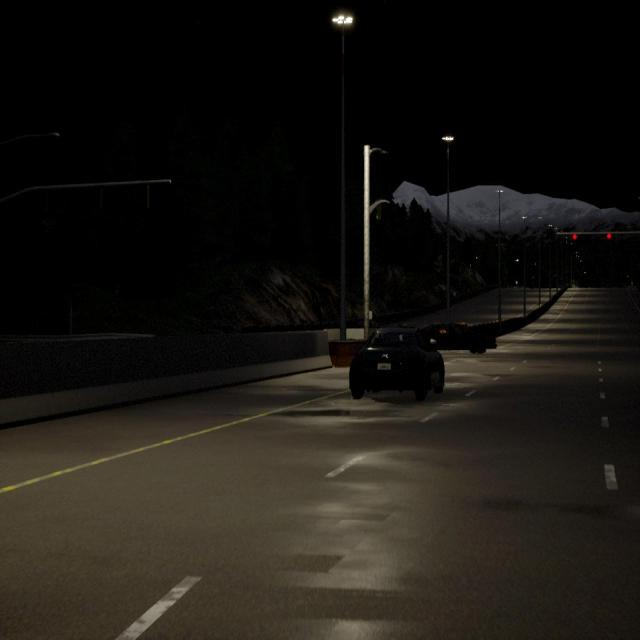Traffic_Signs: (453, 292, 456, 296)
Vehicle: (350, 322, 446, 400)
traffic_light: (146, 184, 154, 208), (99, 186, 105, 212), (45, 189, 52, 210), (376, 205, 381, 220), (572, 234, 577, 240), (607, 233, 611, 239)
